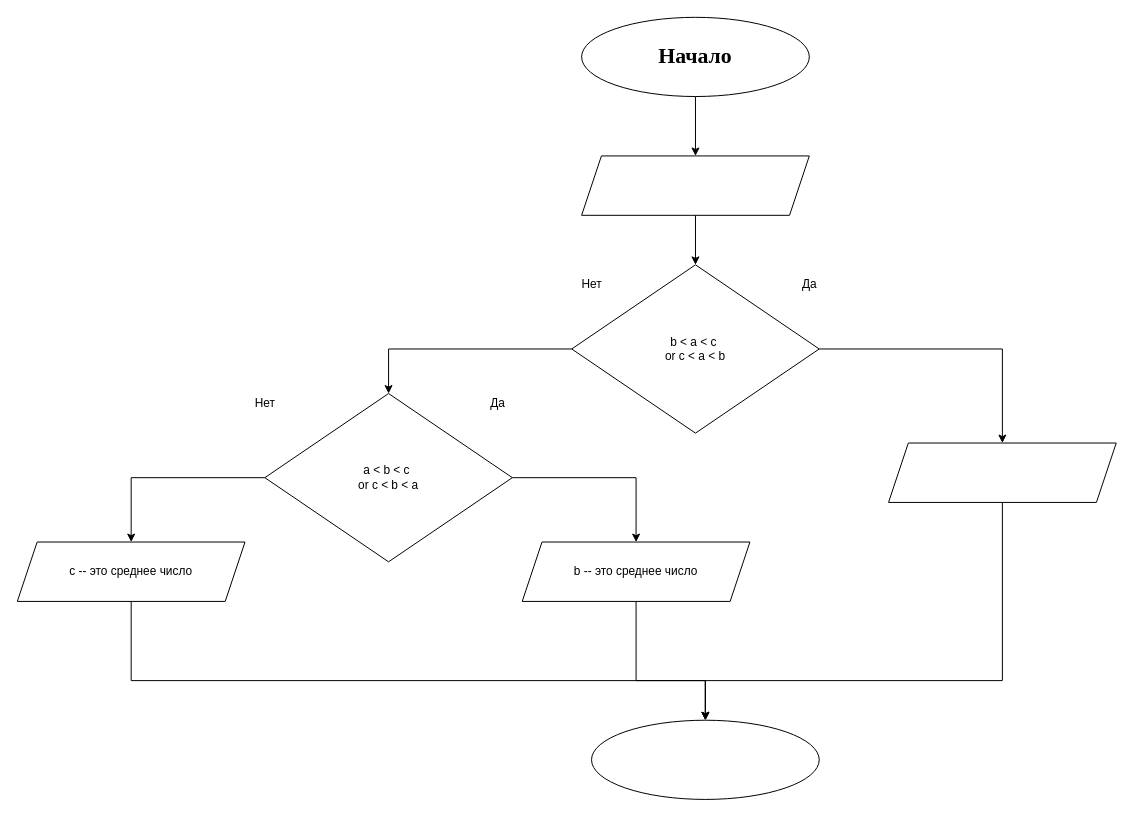
Some shapes in this 1134 by 817 pixel diagram are drawn without their labels. The shapes that lost their labels are listed below. From the top down, each one's centre as x and y in pixels, then its label:
At (695,185): "Ввод чисел: a, b и c".
At (1002,472): "a -- это среднее число".
At (705,759): "Конец".
